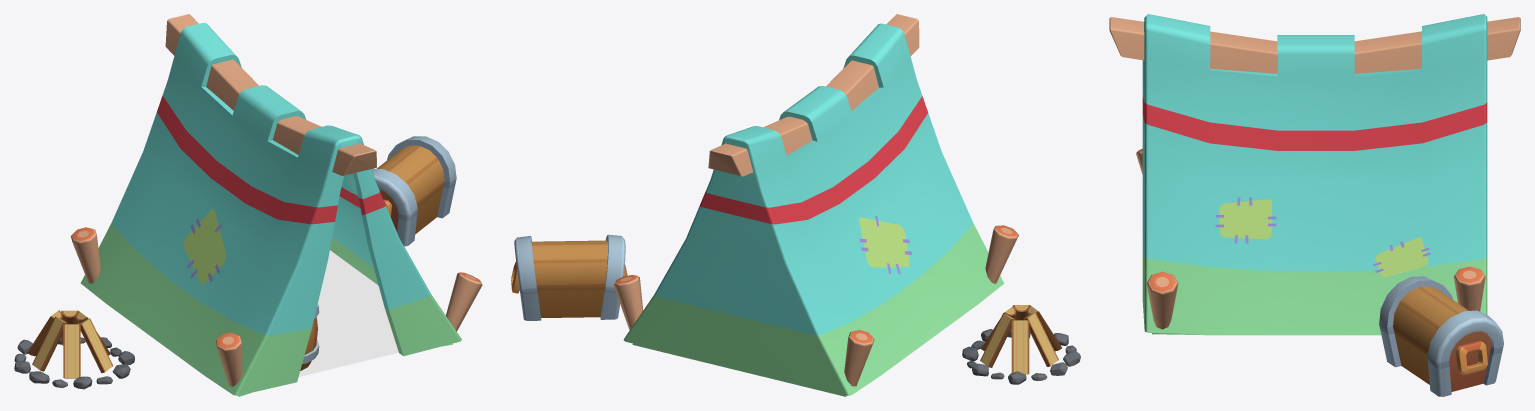
The model's file is Hut_01_lvl.fbx.
The picture shows the model from 3 angles, left to right: view 1: azimuth 30°, elevation 25°; view 2: azimuth 150°, elevation 25°; view 3: azimuth 270°, elevation 25°; orthographic projection. The views are drawn at different scales.
Visible parts, largest first — view 1: Cube.019; view 2: Cube.019; view 3: Cube.019.
Part boxes in pixels (left/top/right/bottom): Cube.019: left=14, top=14, right=482, bottom=396; Cube.019: left=511, top=14, right=1080, bottom=396; Cube.019: left=1109, top=14, right=1520, bottom=396.
Bounding box in the file's own units: 864 × 392 × 566.
